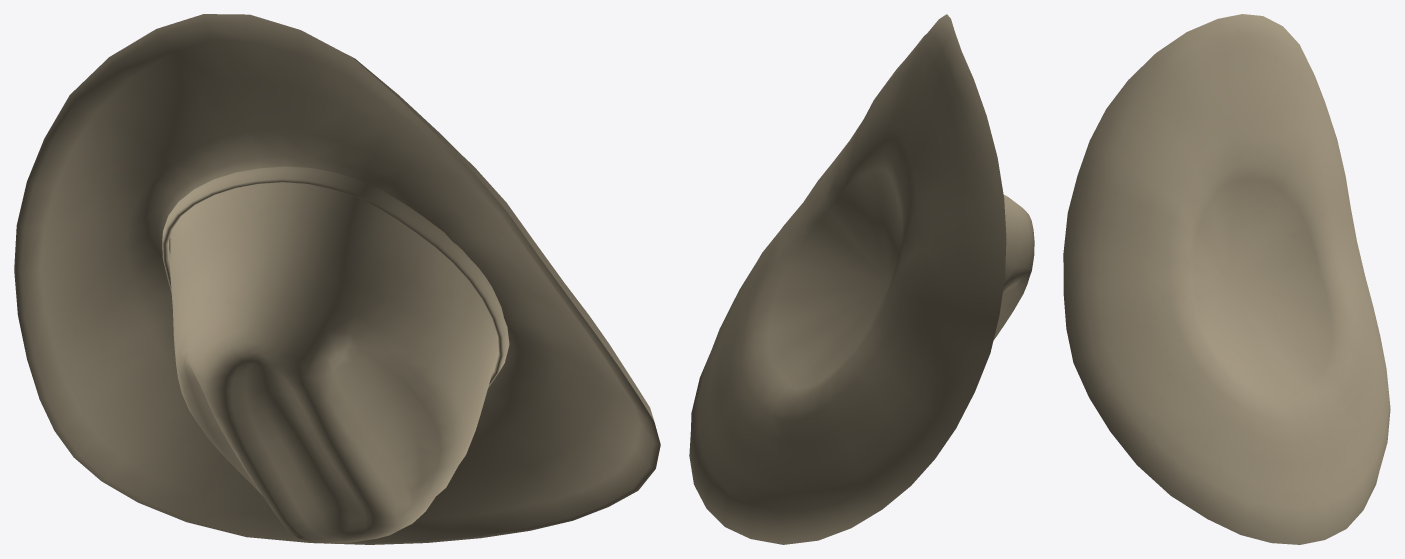
The model's file is hat.obj.
3 views of the same model, side by side, from view 1: azimuth 30°, elevation 25°; view 2: azimuth 150°, elevation 25°; view 3: azimuth 270°, elevation 25° (orthographic). The views are drawn at different scales.
Visible parts, largest first — view 1: dynamic; view 2: dynamic; view 3: dynamic.
Boxes of the visible parts, <box> form: dynamic: <box>14,14,660,544</box>; dynamic: <box>689,14,1034,544</box>; dynamic: <box>1063,14,1390,544</box>.
Size of the model in its own units: 798 by 988 by 667.
